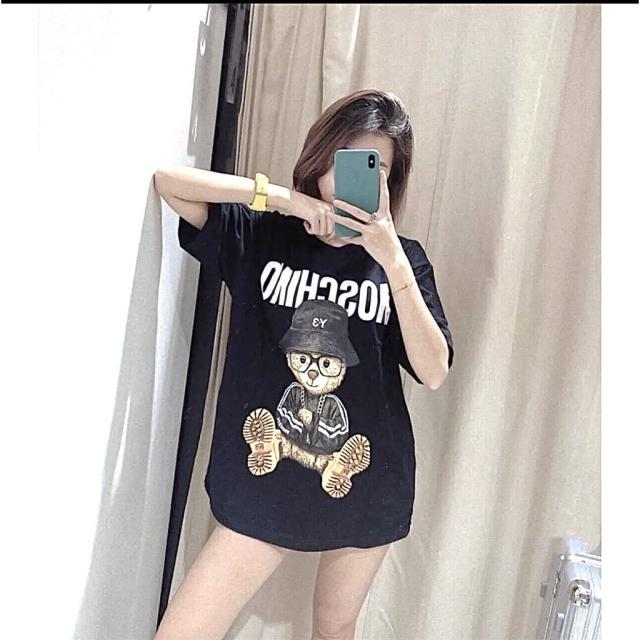Shirt: (202, 195, 440, 548)
